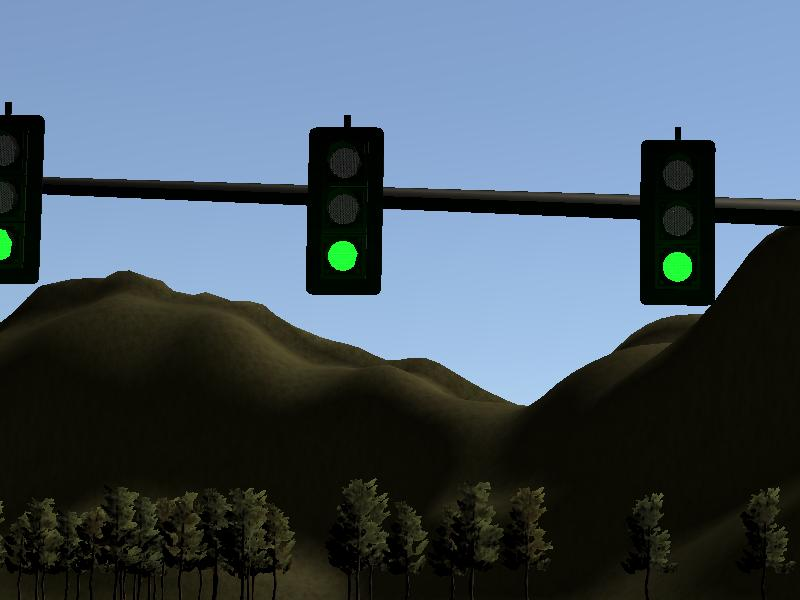not_red: (639, 138, 715, 306), (307, 125, 381, 294), (1, 116, 41, 285)
